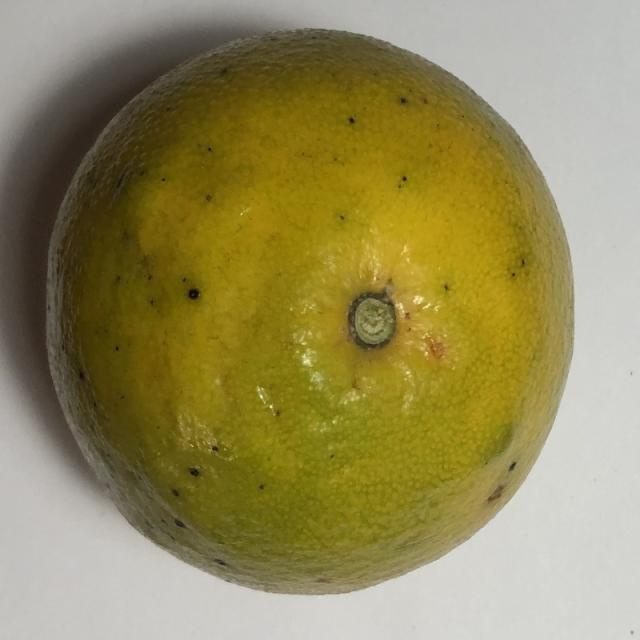black spot: (40, 21, 583, 596)
